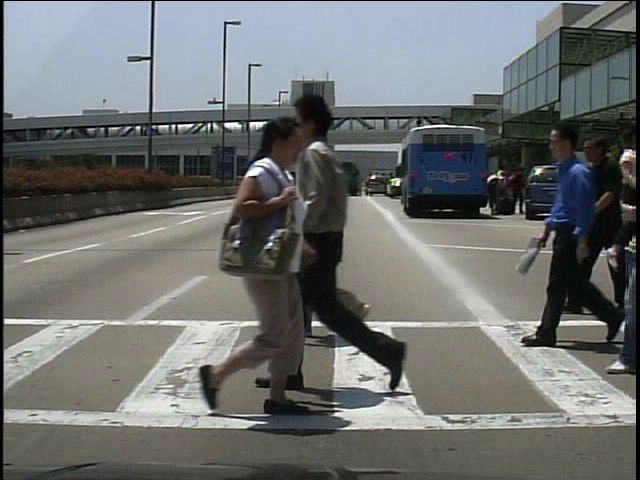person: (283, 92, 428, 407), (191, 114, 324, 420), (265, 118, 391, 352), (521, 114, 629, 348), (559, 130, 631, 322), (582, 168, 602, 218), (486, 162, 504, 214), (508, 166, 526, 216)
